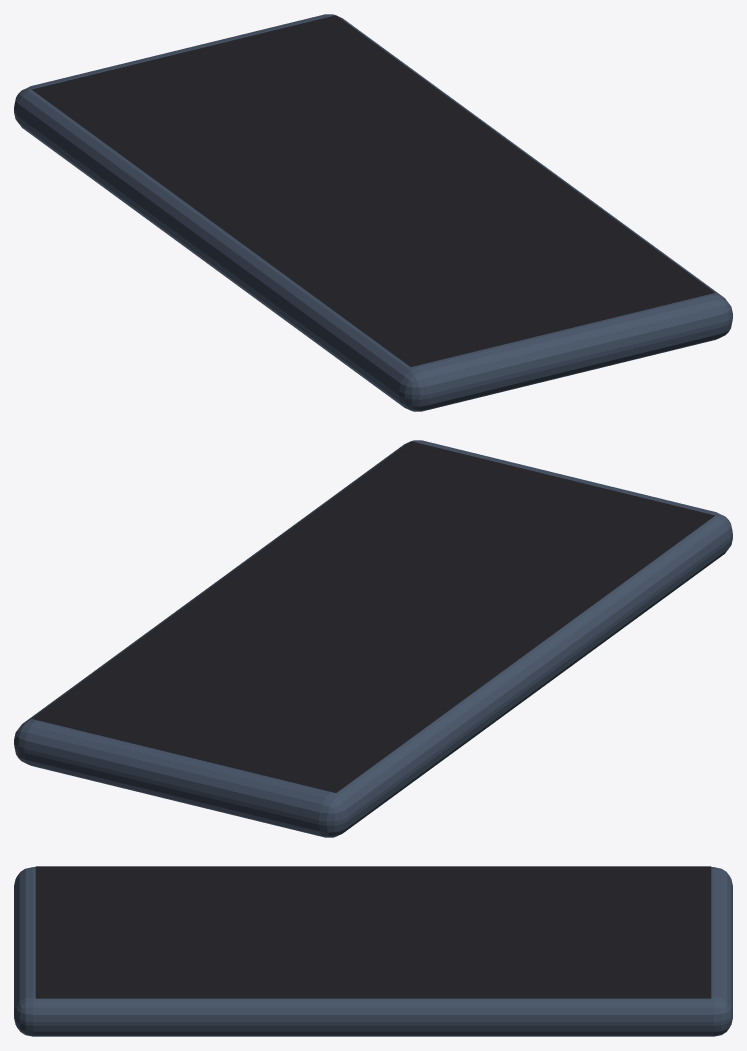
File: vivo-t-model-55-budget-2021.glb
The picture shows the model from 3 angles, top to bottom: view 1: azimuth 30°, elevation 25°; view 2: azimuth 150°, elevation 25°; view 3: azimuth 270°, elevation 25°; orthographic projection. The views are drawn at different scales.
Parts seen in each view (by area): view 1: Phone_Screen, Phone_Body; view 2: Phone_Screen, Phone_Body; view 3: Phone_Screen, Phone_Body.
Part boxes in pixels (x1,y1,x2,y2): Phone_Screen: (31, 15, 714, 366); Phone_Body: (14, 14, 732, 411); Phone_Screen: (32, 441, 715, 792); Phone_Body: (14, 440, 732, 837); Phone_Screen: (35, 866, 711, 998); Phone_Body: (14, 867, 732, 1036).
Size of the model in its own units: 0.078 by 0.0097 by 0.1646.
